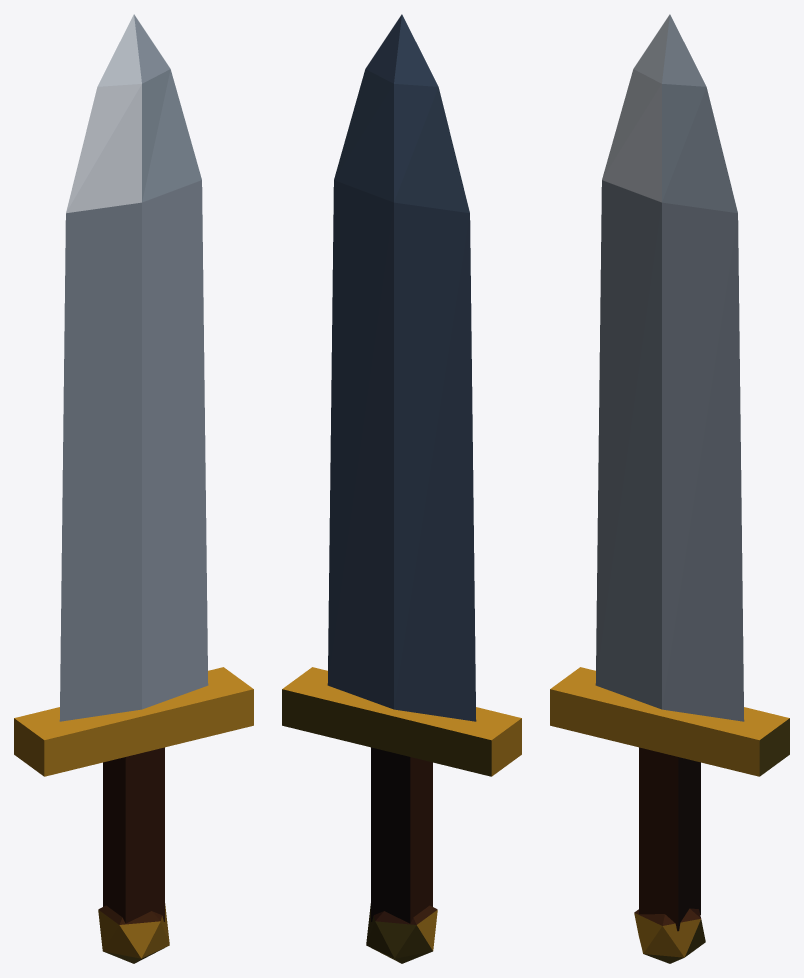
Rendered from gorran_sword.glb.
3 renders of one model, left to right at view 1: azimuth 30°, elevation 25°; view 2: azimuth 150°, elevation 25°; view 3: azimuth 330°, elevation 25°, orthographic.
Visible parts, largest first — view 1: sword; view 2: sword; view 3: sword.
Boxes of the visible parts, x1,y1,x2,y2 form: sword: [14, 14, 253, 963]; sword: [282, 14, 521, 963]; sword: [550, 14, 789, 963].
Bounding box in the file's own units: 0.24 × 1.04 × 0.0681.
Materials: 1 (1 with a texture image).
